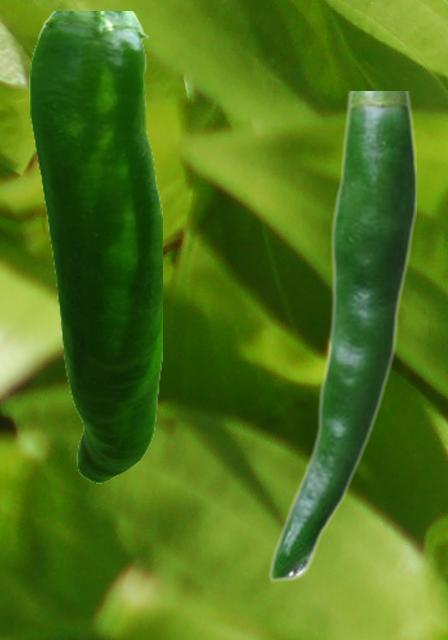green_chili: (267, 91, 415, 581), (29, 11, 161, 482)
